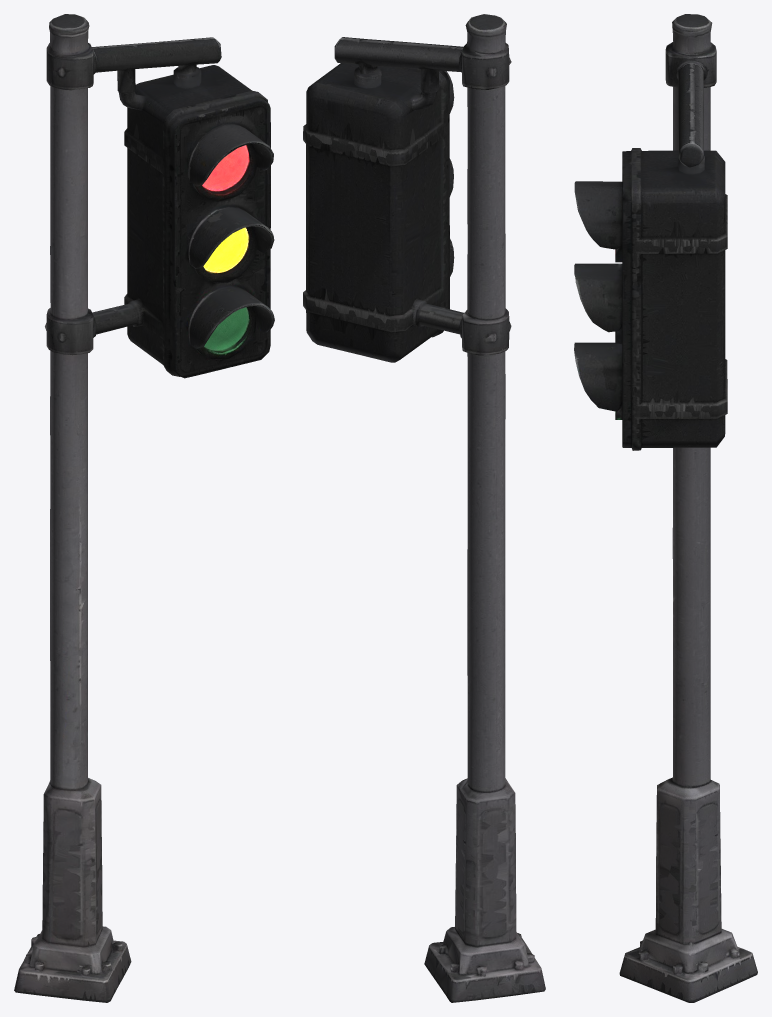
The model's file is kw_traffic.glb.
3 renders of one model, left to right at view 1: azimuth 30°, elevation 25°; view 2: azimuth 150°, elevation 25°; view 3: azimuth 270°, elevation 25°, orthographic.
Parts seen in each view (by area): view 1: frame; view 2: frame; view 3: frame.
Boxes of the visible parts, box(x1,y1,x2,y2) form: frame: box(14, 14, 274, 1002); frame: box(303, 14, 545, 1002); frame: box(574, 14, 757, 1002).
Size of the model in its own units: 1.24 by 5 by 0.8741.
1 material, 1 textured.
